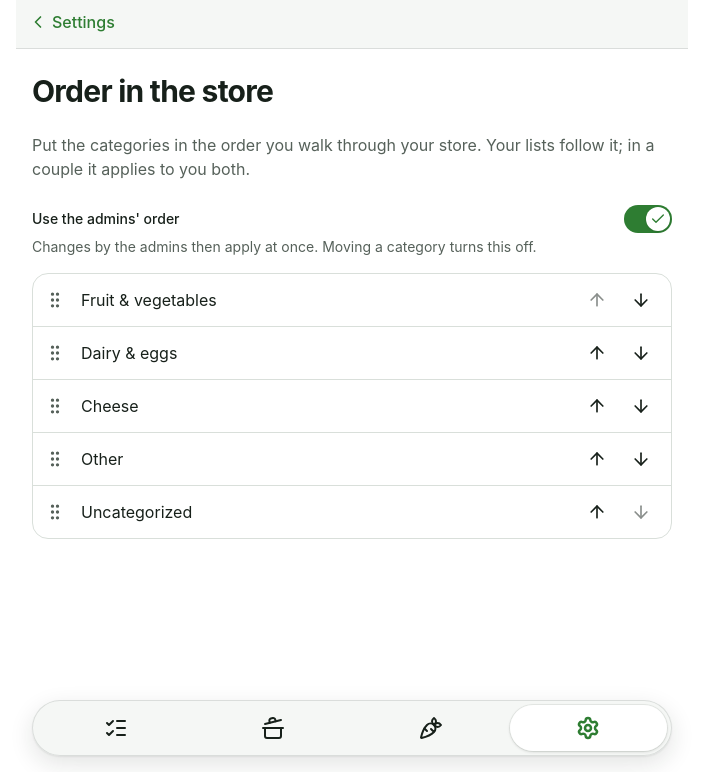
WalkingOrderScreen (REF-01, D-48) › keeps the order as the own one once a category is moved; the switch goes off
The image size is (705, 772).
Click the button named "Move Cheese up": {"x": 597, "y": 406} [575, 384, 619, 428]
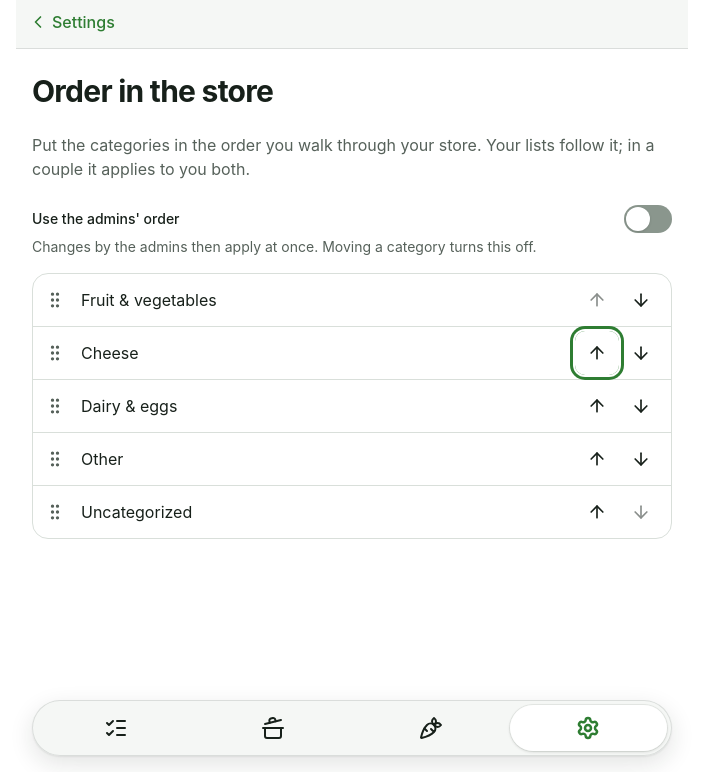
Check: the switch named "Use the admins' order" is not checked, box [624, 205, 672, 233]
